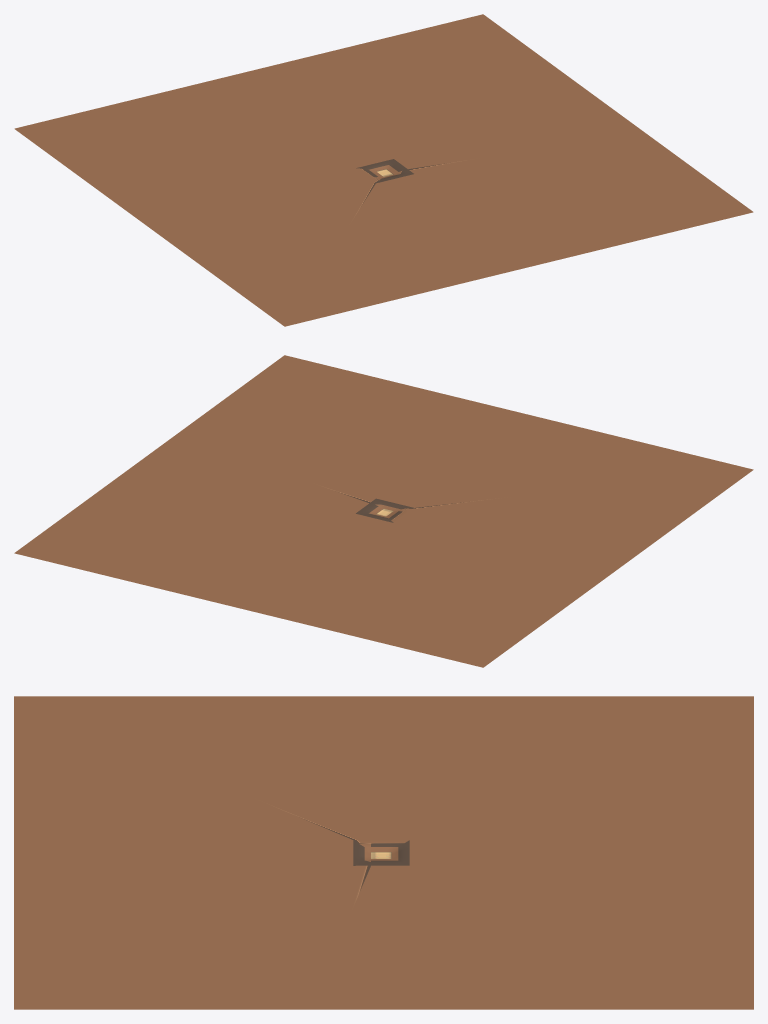
Rendered from GardenBottom.fbx.
3 renders of one model, top to bottom at view 1: azimuth 30°, elevation 25°; view 2: azimuth 150°, elevation 25°; view 3: azimuth 270°, elevation 25°, orthographic. The views are drawn at different scales.
Parts seen in each view (by area): view 1: GardenBottom.001; view 2: GardenBottom.001; view 3: GardenBottom.001.
Boxes of the visible parts, x1=… form: GardenBottom.001: x1=14, y1=14, x2=753, y2=326; GardenBottom.001: x1=14, y1=355, x2=753, y2=667; GardenBottom.001: x1=14, y1=696, x2=753, y2=1009.
Size of the model in its own units: 30527 by 124 by 30490.
